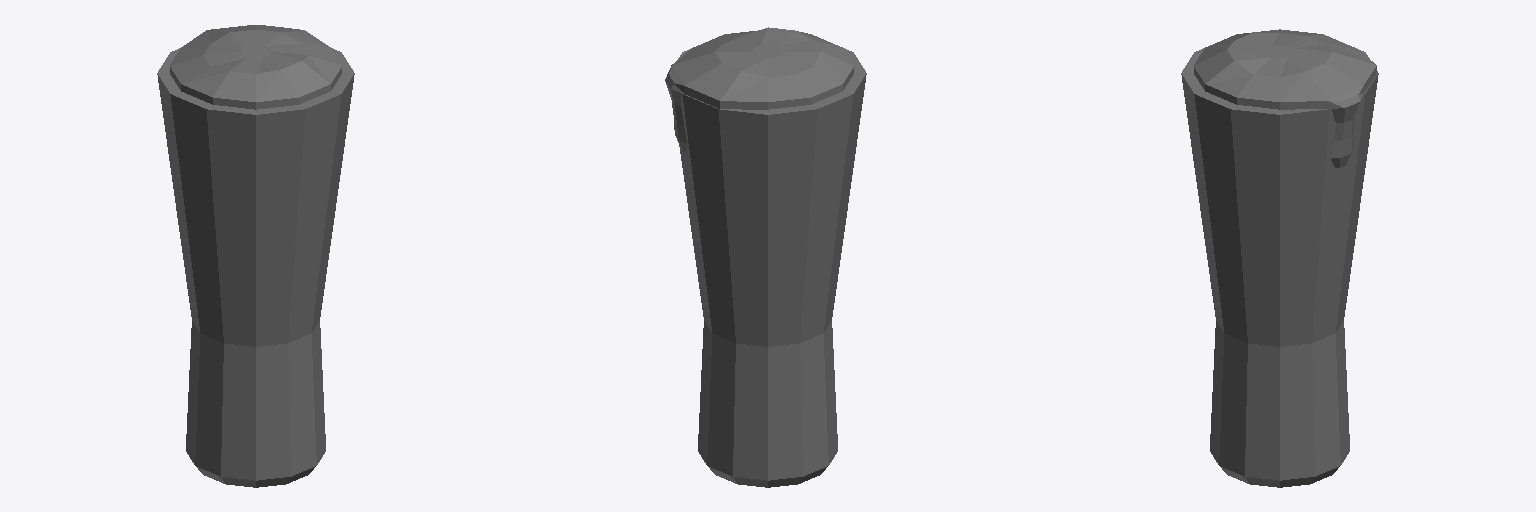
File: pint-2.obj
The picture shows the model from 3 angles: view 1: azimuth 30°, elevation 25°; view 2: azimuth 150°, elevation 25°; view 3: azimuth 270°, elevation 25°; orthographic projection.
Parts seen in each view (by area): view 1: GlassOfBeer_mesh; view 2: GlassOfBeer_mesh; view 3: GlassOfBeer_mesh.
Boxes of the visible parts, box(x1,y1,x2,y2) form: GlassOfBeer_mesh: box(157, 25, 354, 487); GlassOfBeer_mesh: box(665, 27, 866, 487); GlassOfBeer_mesh: box(1181, 29, 1378, 487).
Bounding box in the file's own units: 2.58 × 5.93 × 2.58.